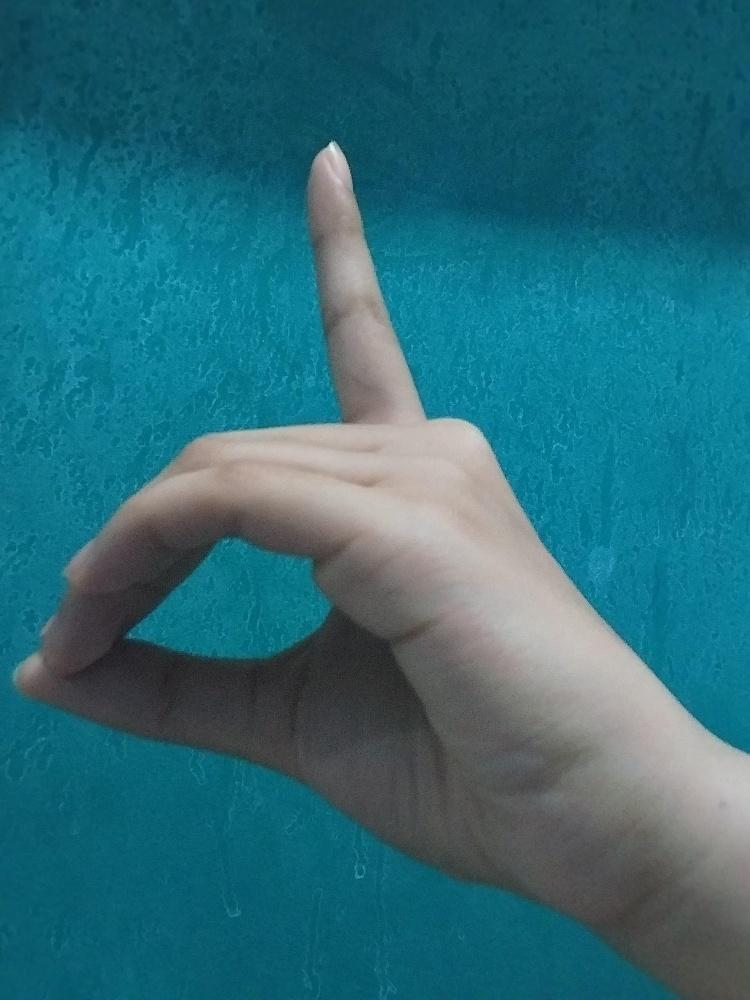d: (14, 138, 578, 889)
